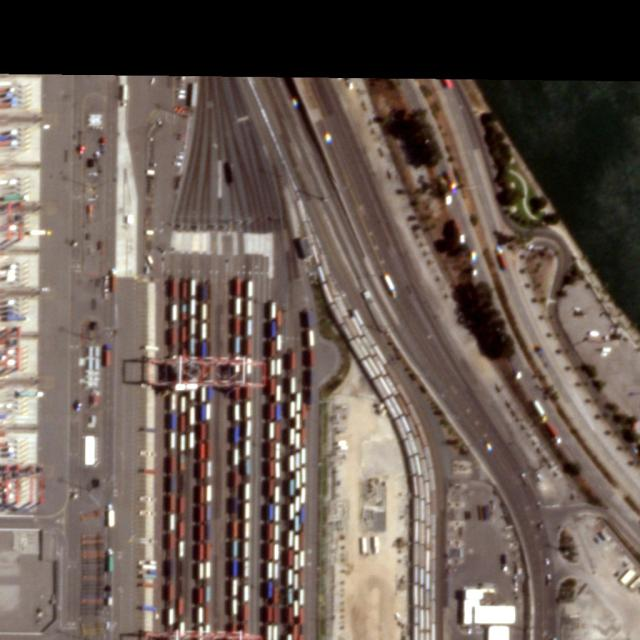containers: (148, 280, 315, 637)
